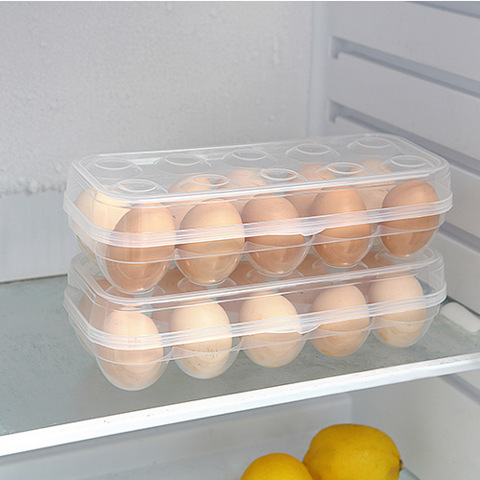egg: (53, 154, 445, 353)
